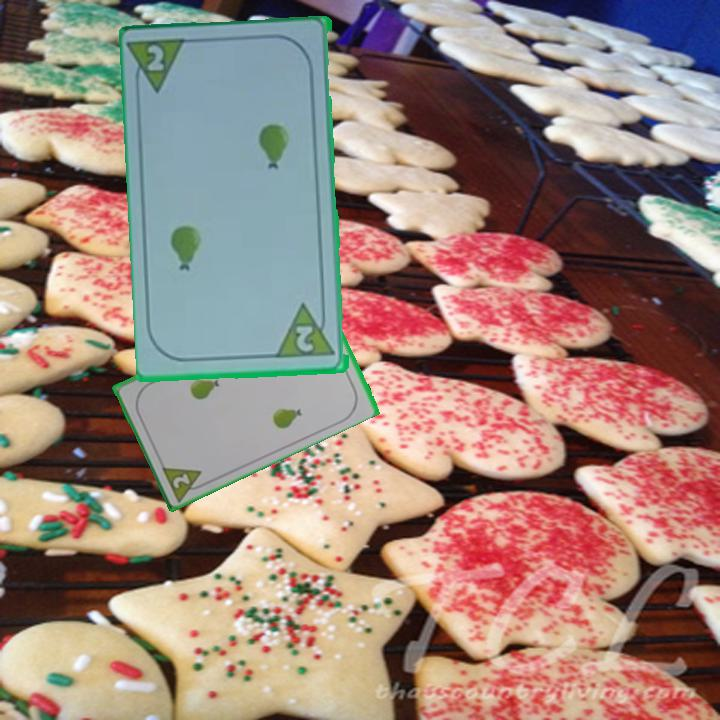2p: (127, 35, 192, 98), (158, 461, 211, 503), (293, 322, 319, 355)
